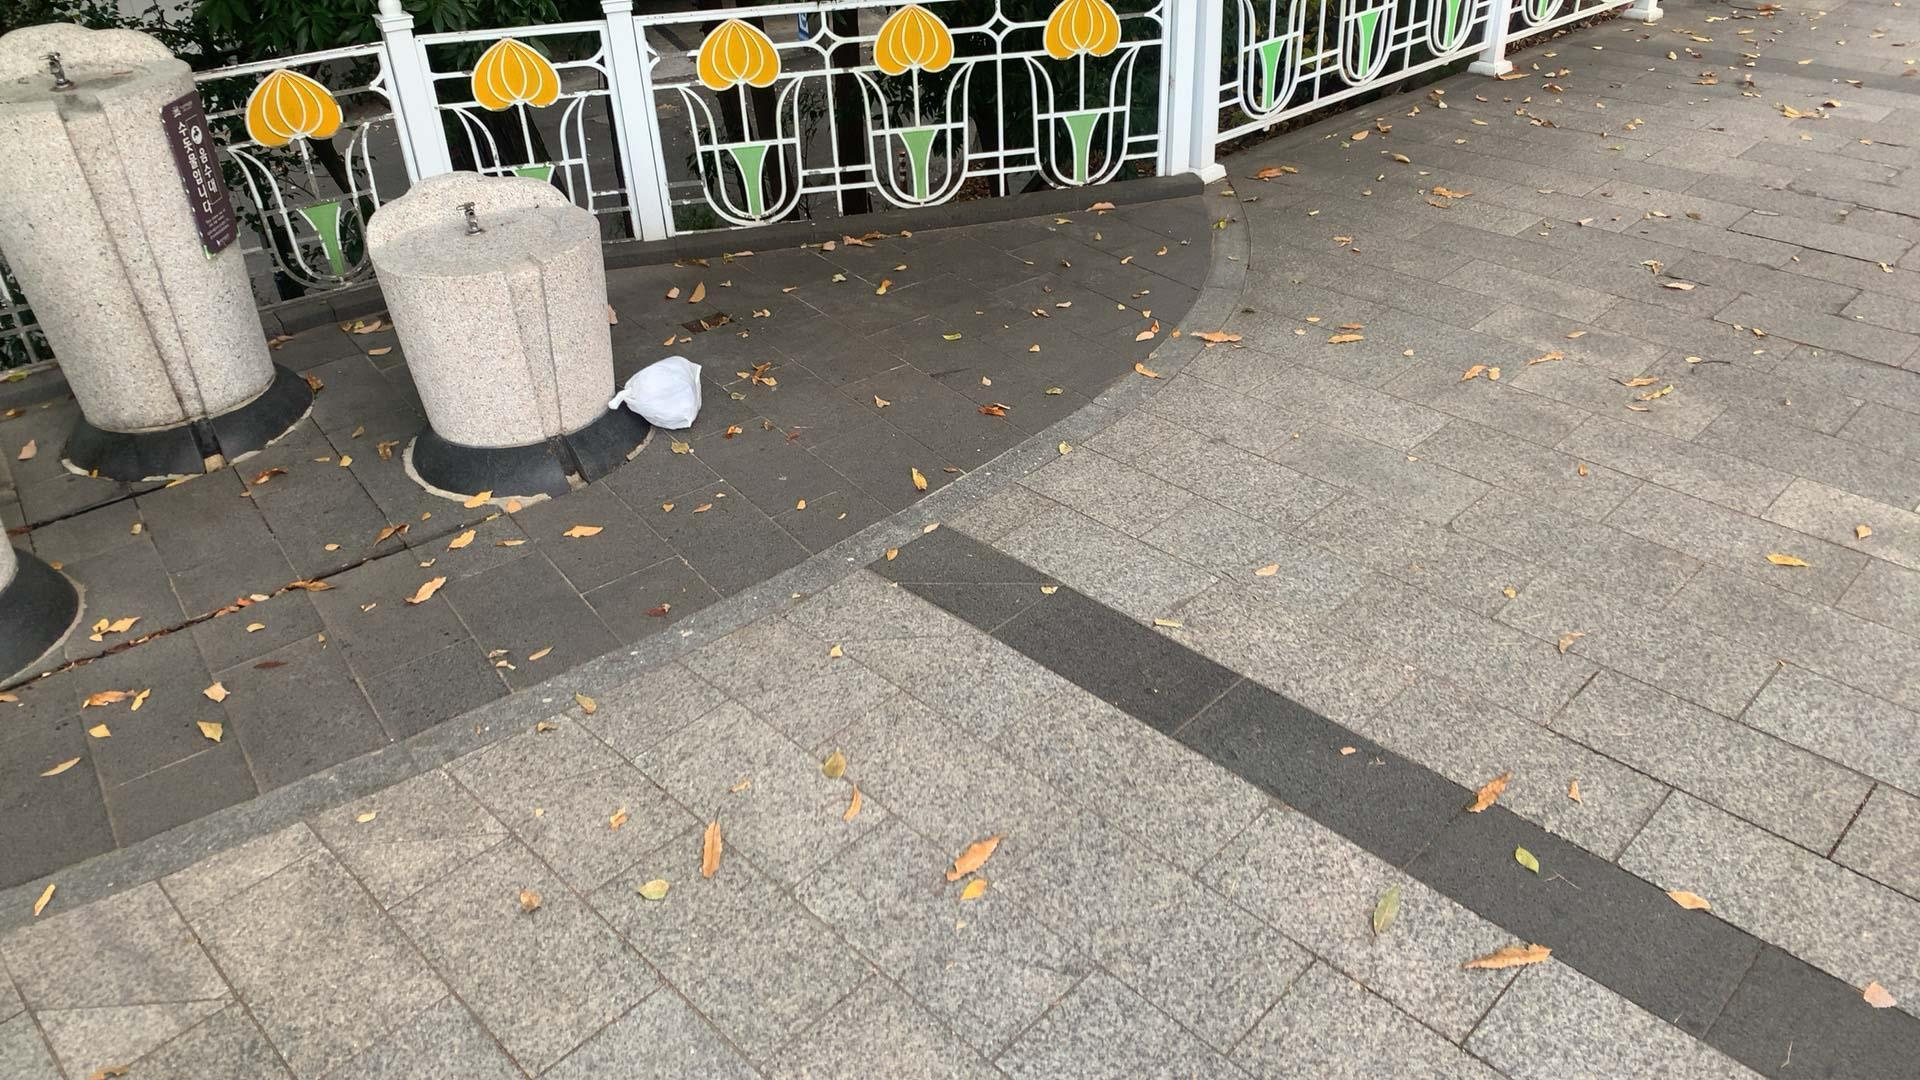white_bag: (600, 352, 708, 438)
